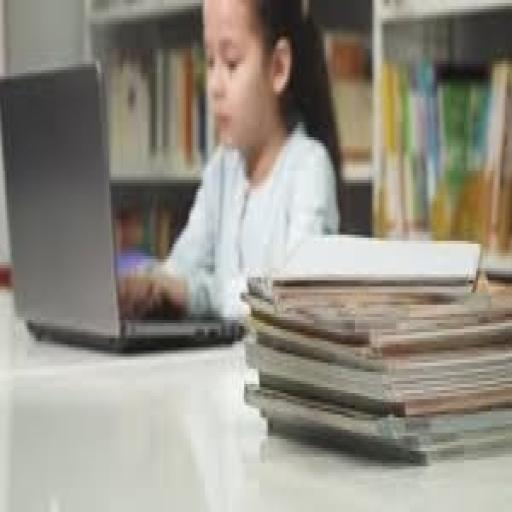using_laptop: (0, 54, 242, 353)
